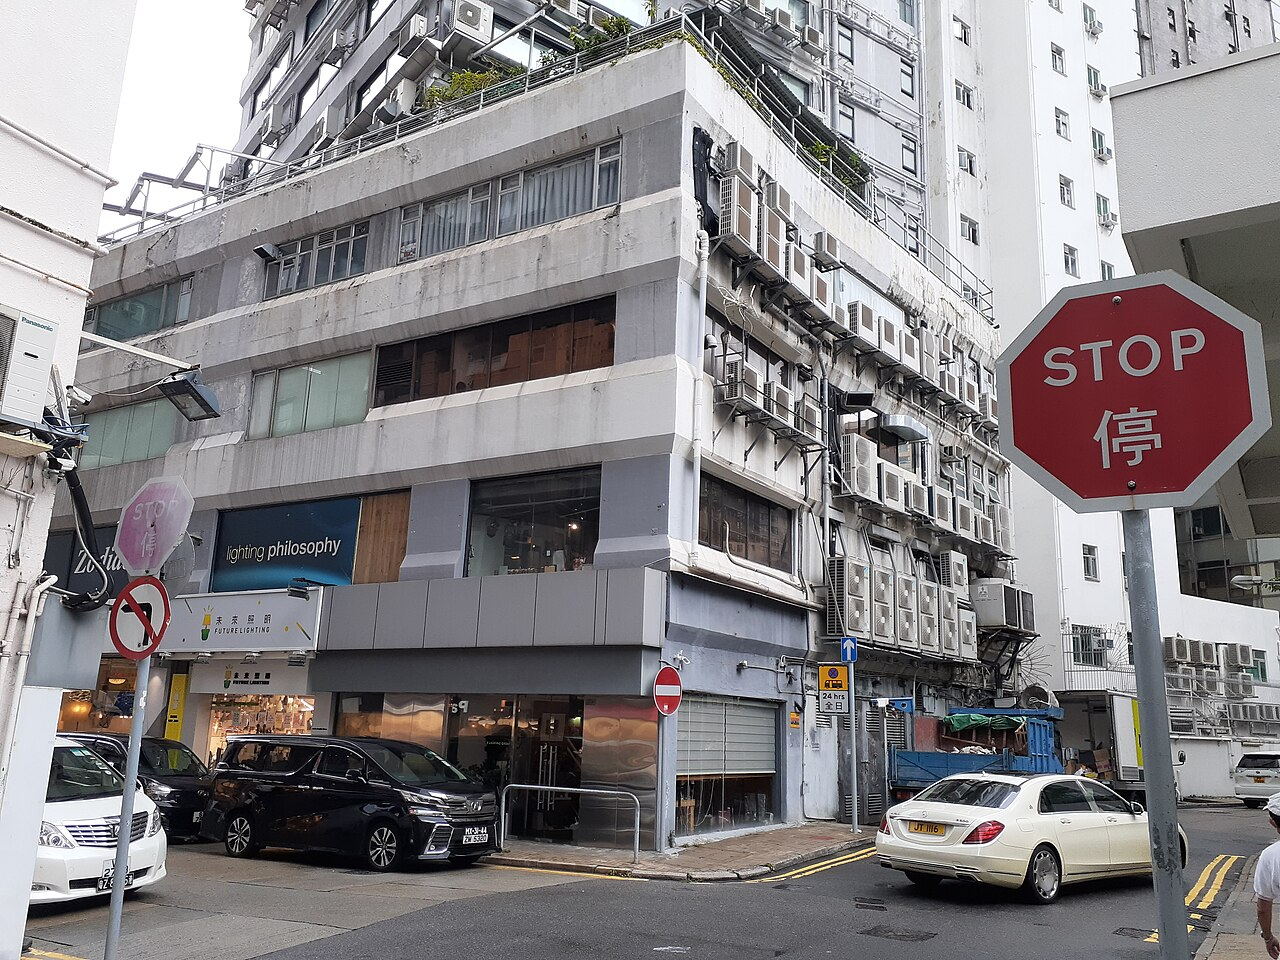No Enter: (645, 663, 682, 715)
No Turn Left: (110, 578, 175, 657)
One Way Traffic: (842, 633, 856, 662)
Start Of No Stopping: (813, 662, 848, 719)
Stop: (994, 258, 1270, 510)
